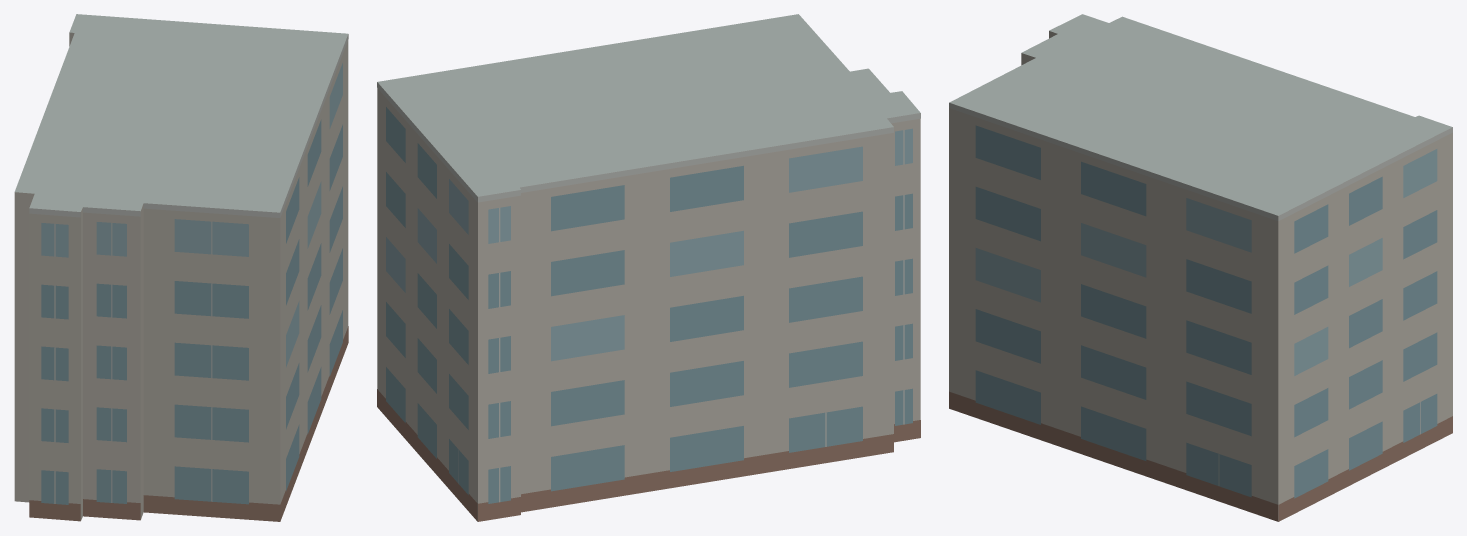
The model's file is survey-upis-33004356.glb.
The picture shows the model from 3 angles, left to right: view 1: azimuth 30°, elevation 25°; view 2: azimuth 150°, elevation 25°; view 3: azimuth 270°, elevation 25°; orthographic projection. The views are drawn at different scales.
Parts seen in each view (by area): view 1: survey-upis-33004356.tmp; view 2: survey-upis-33004356.tmp; view 3: survey-upis-33004356.tmp.
Boxes of the visible parts, x1,y1,x2,y2 form: survey-upis-33004356.tmp: (14,14,348,521); survey-upis-33004356.tmp: (377,14,920,521); survey-upis-33004356.tmp: (949,14,1452,521).
Size of the model in its own units: 19.65 by 13.88 by 20.72.
